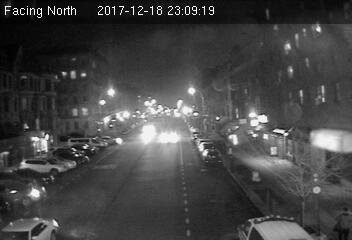car: (203, 147, 222, 165)
police: (236, 210, 310, 240)
